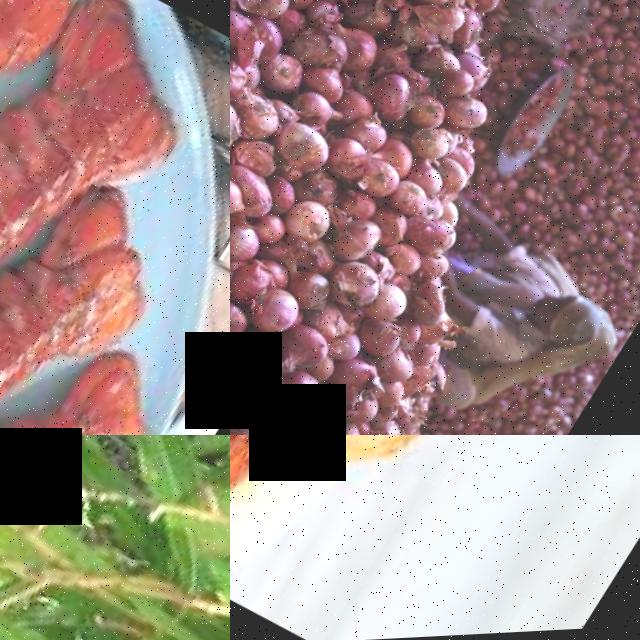lobster tails: (230, 435, 581, 609), (0, 0, 202, 302), (0, 175, 187, 435), (0, 319, 227, 435)
onion: (269, 117, 345, 186), (247, 280, 319, 348), (358, 67, 429, 135), (274, 365, 345, 431), (326, 210, 395, 274), (280, 322, 347, 381), (284, 197, 344, 253), (230, 91, 261, 168), (230, 173, 259, 228), (400, 0, 466, 20)
